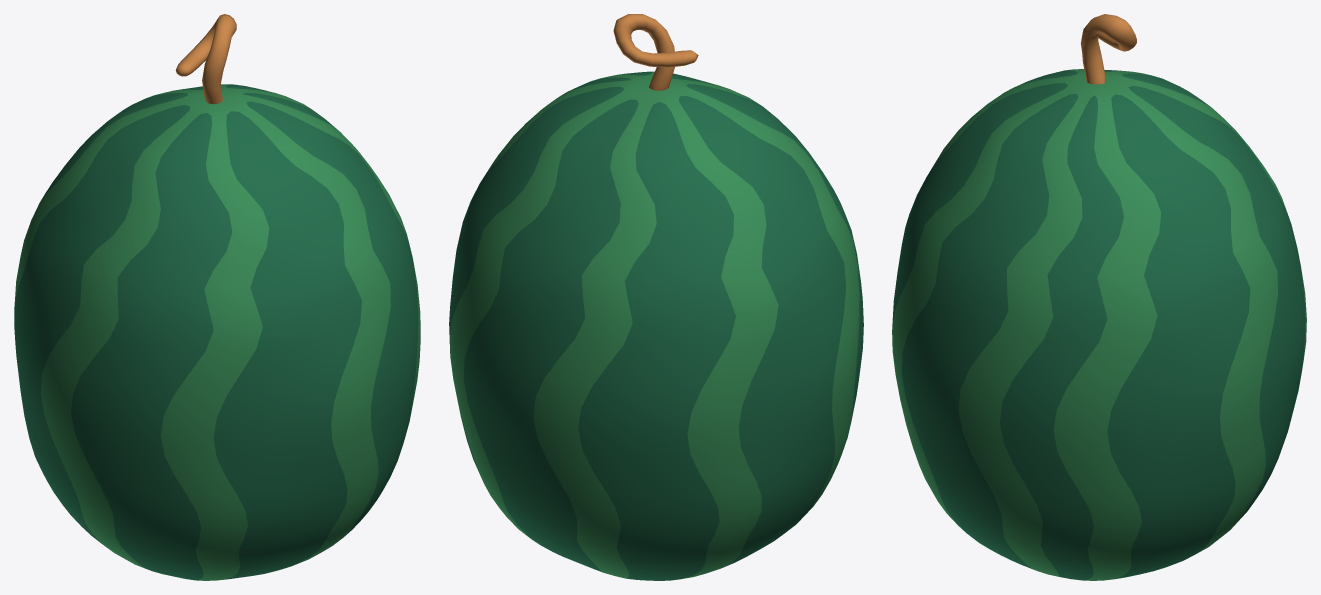
The model's file is Watermelon_01.dae.
3 views of the same model, side by side, from view 1: azimuth 30°, elevation 25°; view 2: azimuth 150°, elevation 25°; view 3: azimuth 270°, elevation 25° (orthographic). The views are drawn at different scales.
Parts seen in each view (by area): view 1: Watermelon_01_LOD0; view 2: Watermelon_01_LOD0; view 3: Watermelon_01_LOD0.
Boxes of the visible parts, <box> form: Watermelon_01_LOD0: <box>14,14,420,580</box>; Watermelon_01_LOD0: <box>449,14,863,580</box>; Watermelon_01_LOD0: <box>892,14,1306,580</box>.
Size of what is drawn, in the model's own units: 5.33 by 5.29 by 7.79.
